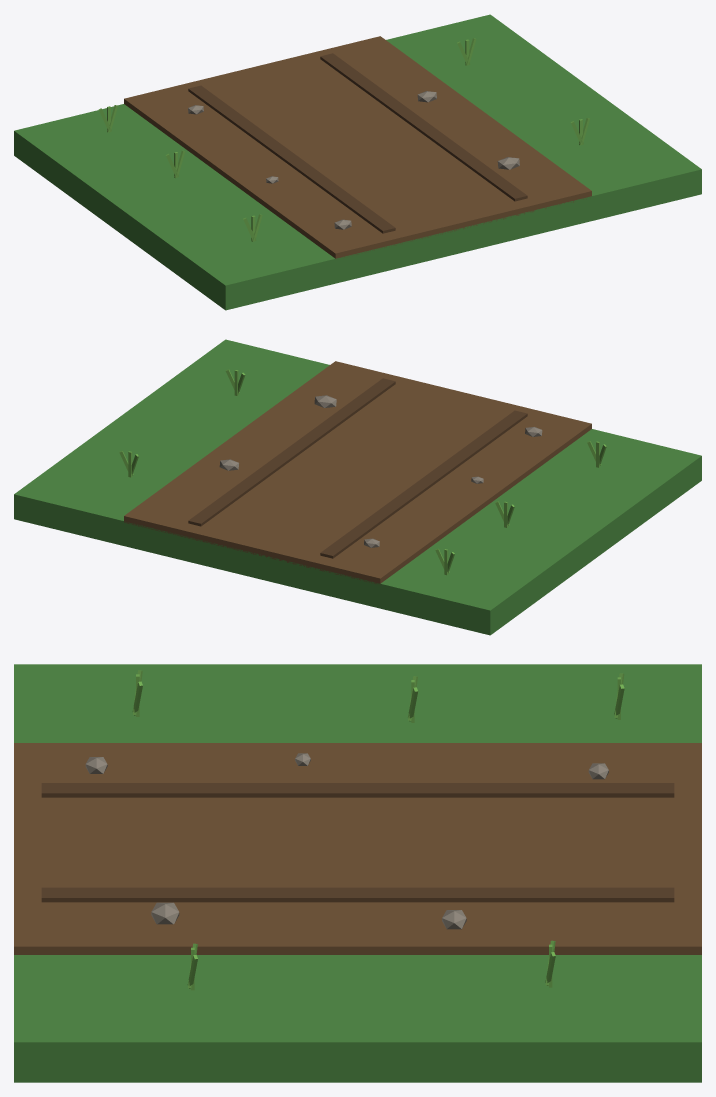
File: dirt_road.glb
3 renders of one model, top to bottom at view 1: azimuth 30°, elevation 25°; view 2: azimuth 150°, elevation 25°; view 3: azimuth 270°, elevation 25°, orthographic. The views are drawn at different scales.
Parts seen in each view (by area): view 1: TerrainBase, DirtRoad, CartRut.001, CartRut; view 2: TerrainBase, DirtRoad, CartRut.001, CartRut; view 3: TerrainBase, DirtRoad, CartRut.001, CartRut.
Part boxes in pixels (x1,y1,x2,y2): TerrainBase: (14, 14, 701, 310); DirtRoad: (124, 36, 591, 258); CartRut.001: (320, 53, 527, 201); CartRut: (188, 85, 395, 233); TerrainBase: (14, 339, 701, 635); DirtRoad: (124, 361, 591, 584); CartRut.001: (188, 378, 395, 526); CartRut: (320, 410, 527, 558); TerrainBase: (14, 664, 701, 1082); DirtRoad: (14, 743, 701, 954); CartRut.001: (41, 887, 674, 902); CartRut: (41, 783, 674, 797).
Bounding box in the file's own units: 13 × 1.31 × 10.
